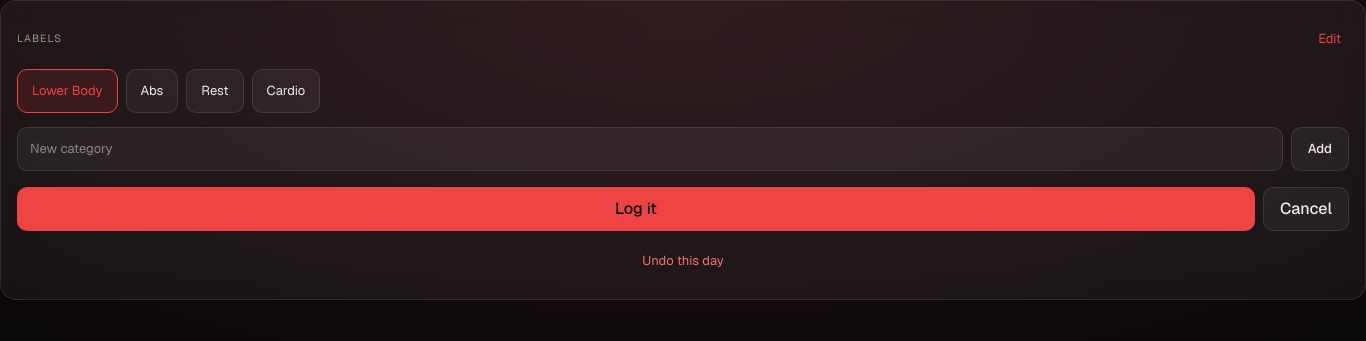
Test case: PlannerDaySheet, undoing a day › keeps the sheet open and says so when the undo fails
Click the button "Undo this day" at (683, 261), box [17, 239, 1349, 283]
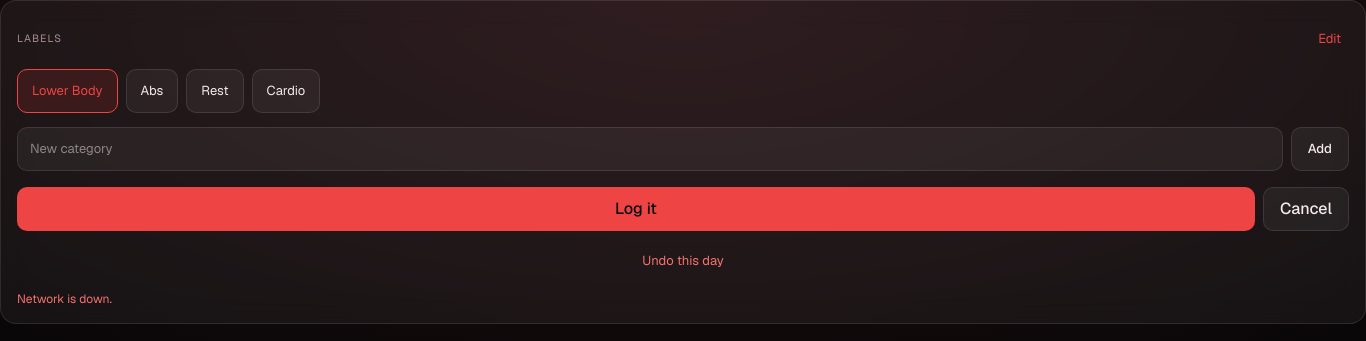
Check: the text "Network is down." is shown, box [17, 291, 112, 307]
